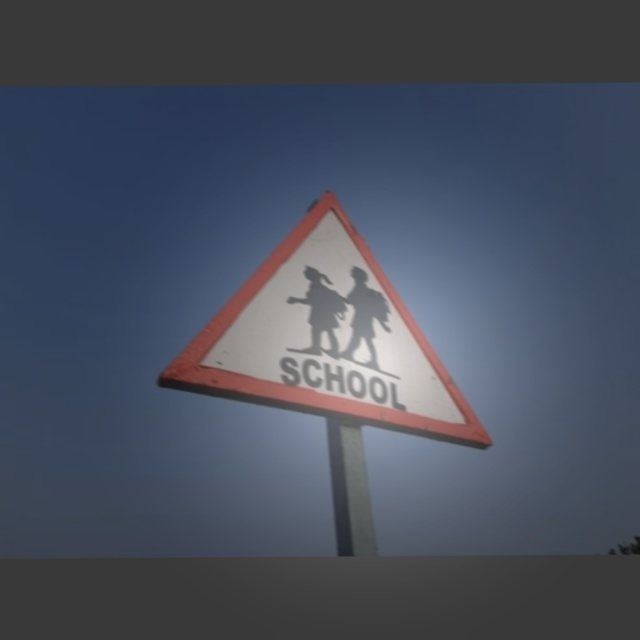School_Ahead: (192, 188, 474, 446)
